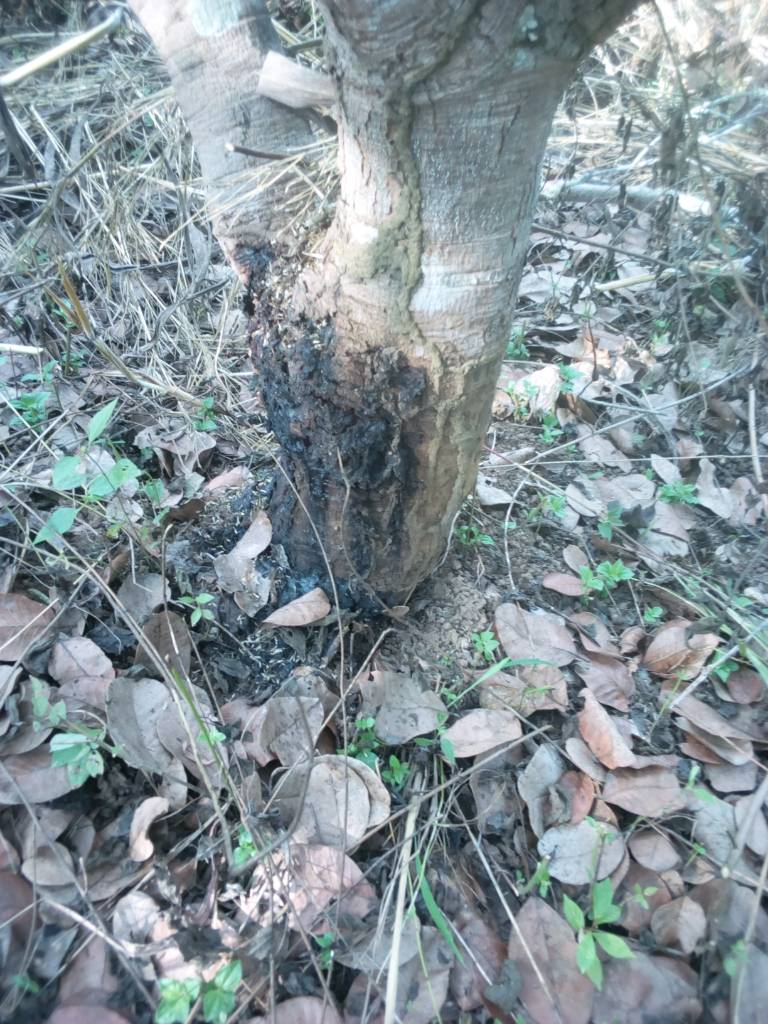Termites: (390, 103, 469, 577)
